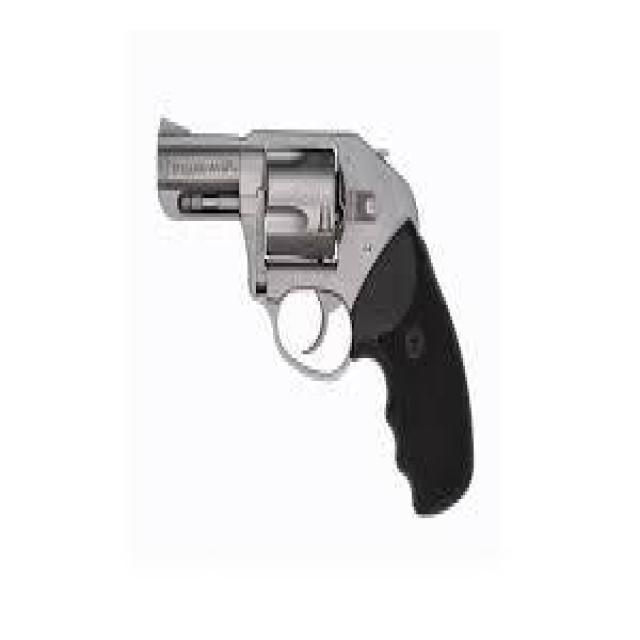Gun: (131, 90, 487, 555)
